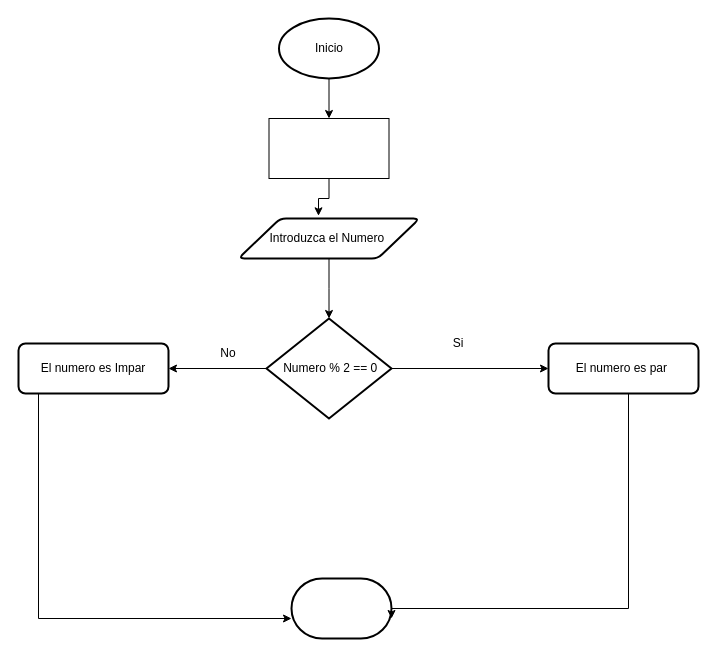
Image size: 716x656. Some labels were removed from this diagram. The centre of each missing label's shape, as x and y in pixels:
"Calcular si un numero es par Impar" goes at (x=328, y=148).
"Fin" goes at (x=341, y=608).
